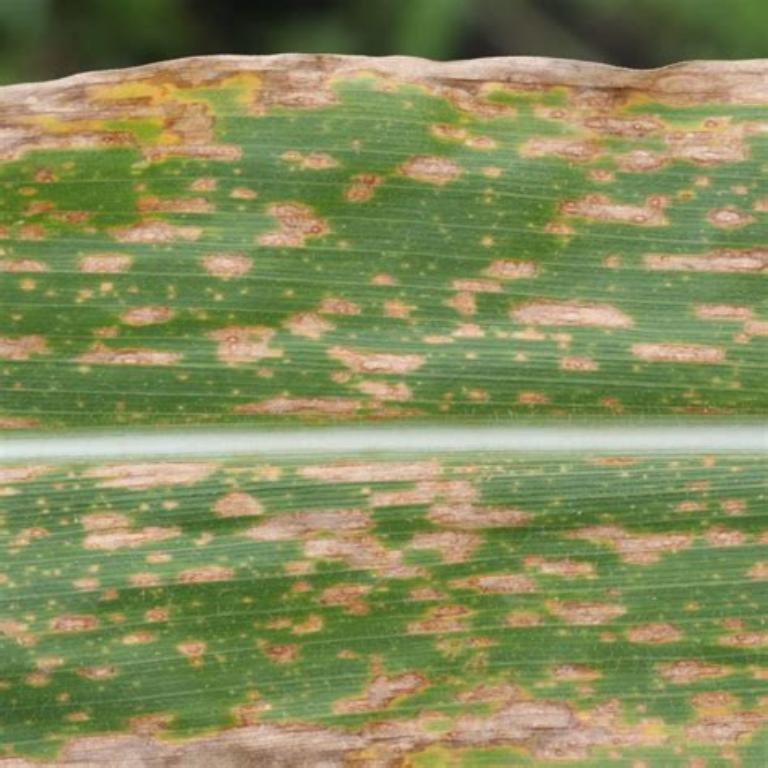blight: (438, 30, 768, 354), (0, 622, 640, 768), (46, 438, 536, 618), (0, 89, 342, 292)
